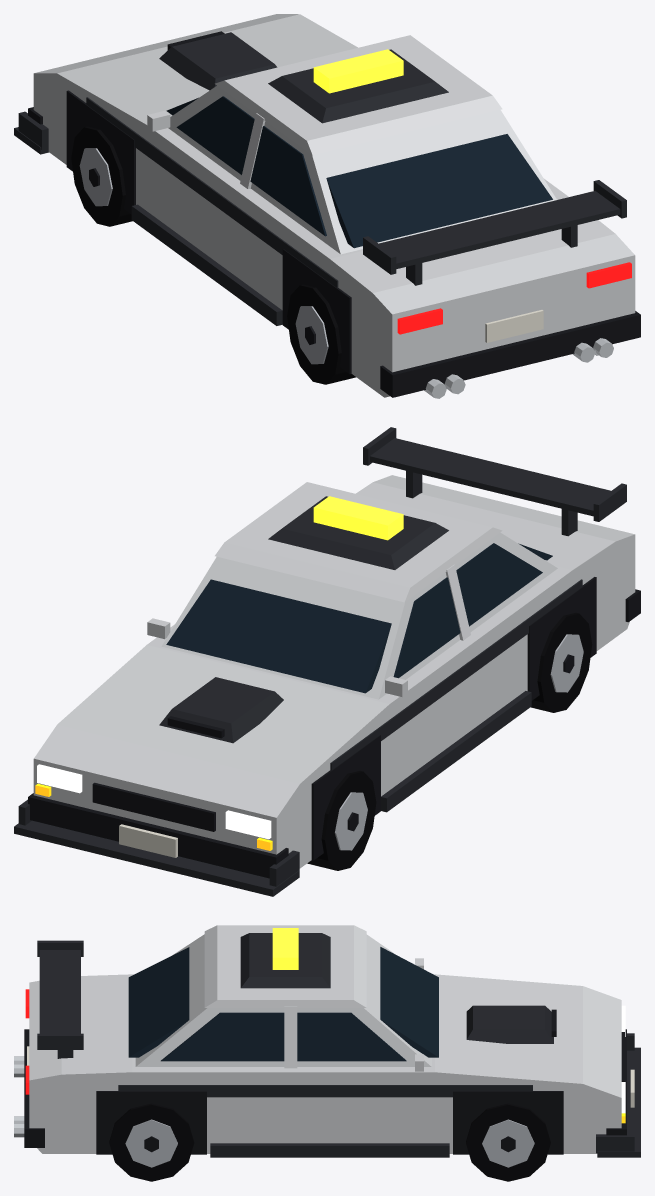
Rendered from car_taxi.glb.
The picture shows the model from 3 angles, top to bottom: view 1: azimuth 30°, elevation 25°; view 2: azimuth 150°, elevation 25°; view 3: azimuth 270°, elevation 25°; orthographic projection. The views are drawn at different scales.
Visible parts, largest first — view 1: car_taxi__body, car_taxi__mod_spoiler, car_taxi__mod_roof, car_taxi__wheel_rl, car_taxi__wheel_fl, car_taxi__mod_hood, car_taxi__mod_skirts, car_taxi__mod_exhaust, car_taxi__mod_bumper; view 2: car_taxi__body, car_taxi__mod_spoiler, car_taxi__mod_bumper, car_taxi__mod_roof, car_taxi__mod_hood, car_taxi__wheel_fl, car_taxi__wheel_rl, car_taxi__mod_skirts; view 3: car_taxi__body, car_taxi__wheel_rr, car_taxi__wheel_fr, car_taxi__mod_spoiler, car_taxi__mod_roof, car_taxi__mod_skirts, car_taxi__mod_hood, car_taxi__mod_bumper, car_taxi__mod_exhaust.
Part boxes in pixels (box(x1,y1,x2,y2)): car_taxi__body: box(28, 14, 640, 397); car_taxi__mod_spoiler: box(363, 180, 626, 285); car_taxi__mod_roof: box(268, 49, 448, 123); car_taxi__wheel_rl: box(287, 284, 355, 384); car_taxi__wheel_fl: box(71, 126, 132, 226); car_taxi__mod_hood: box(159, 31, 277, 90); car_taxi__mod_skirts: box(131, 204, 282, 325); car_taxi__mod_exhaust: box(424, 338, 613, 398); car_taxi__mod_bumper: box(14, 111, 48, 154); car_taxi__body: box(28, 475, 640, 878); car_taxi__mod_spoiler: box(363, 427, 626, 536); car_taxi__mod_bumper: box(14, 799, 299, 896); car_taxi__mod_roof: box(268, 496, 448, 569); car_taxi__mod_hood: box(159, 677, 283, 743); car_taxi__wheel_fl: box(307, 770, 376, 870); car_taxi__wheel_rl: box(531, 612, 592, 712); car_taxi__mod_skirts: box(381, 691, 531, 812); car_taxi__body: box(24, 925, 634, 1154); car_taxi__wheel_rr: box(109, 1103, 194, 1181); car_taxi__wheel_fr: box(466, 1103, 550, 1181); car_taxi__mod_spoiler: box(37, 940, 83, 1058); car_taxi__mod_roof: box(240, 933, 330, 988); car_taxi__mod_skirts: box(210, 1143, 449, 1157); car_taxi__mod_hood: box(466, 1005, 556, 1043); car_taxi__mod_bumper: box(596, 1033, 640, 1157); car_taxi__mod_exhaust: box(14, 1056, 24, 1137).
Bounding box in the file's own units: 1.93 × 1.61 × 4.87.
